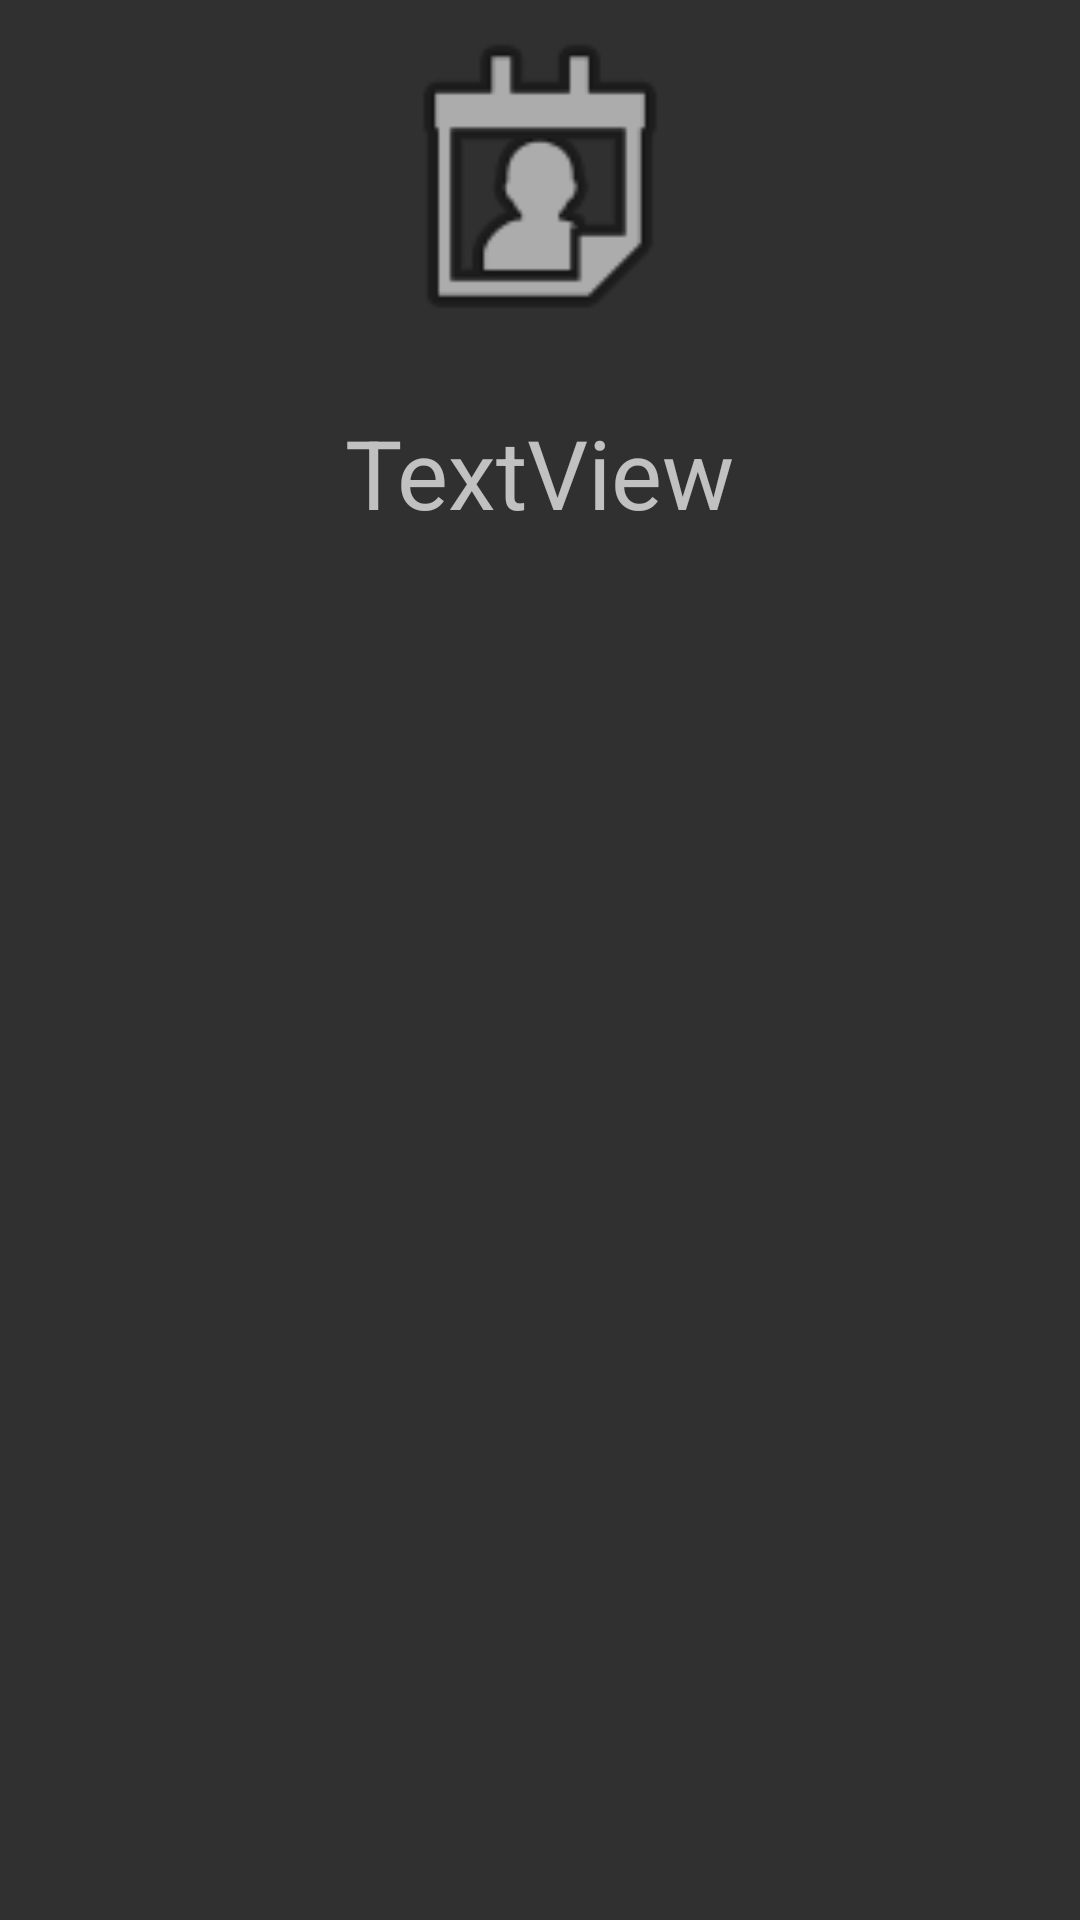

Icon click points for this 1080 × 1920 phone screenshot, format [x,y]:
calendar: [540,176]
